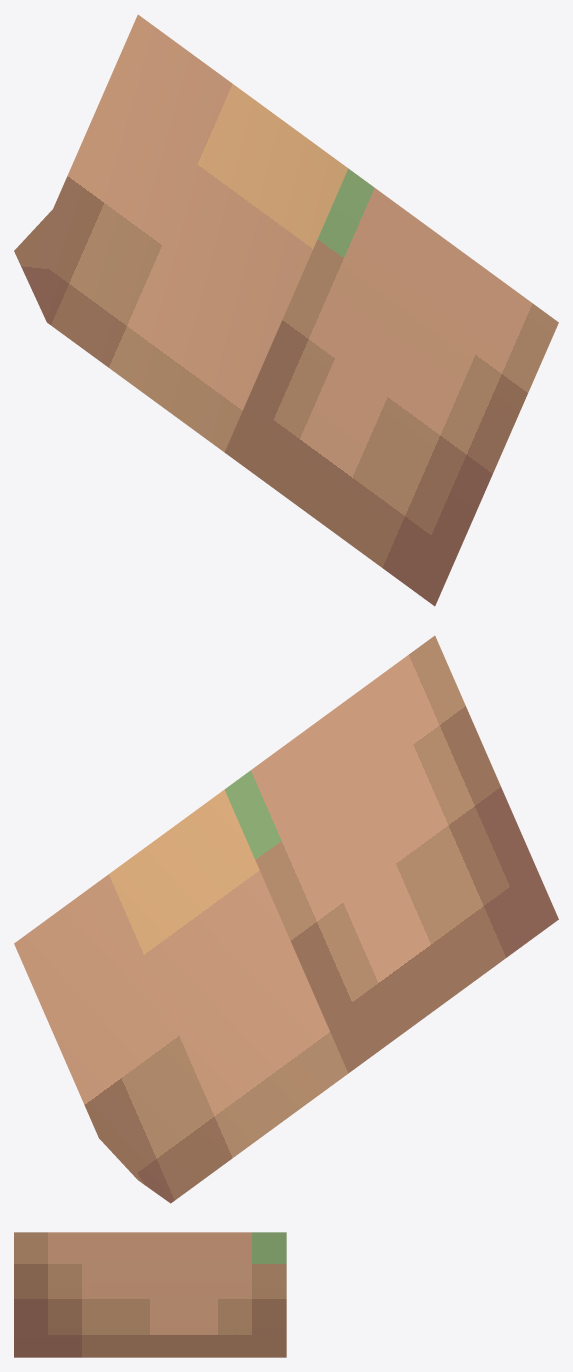
3 views of the same model, one above another, from view 1: azimuth 30°, elevation 25°; view 2: azimuth 150°, elevation 25°; view 3: azimuth 270°, elevation 25° (orthographic). The views are drawn at different scales.
Bounding box in the file's own units: 0.1699 × 0.3326 × 1.
2 materials, 2 textured.
